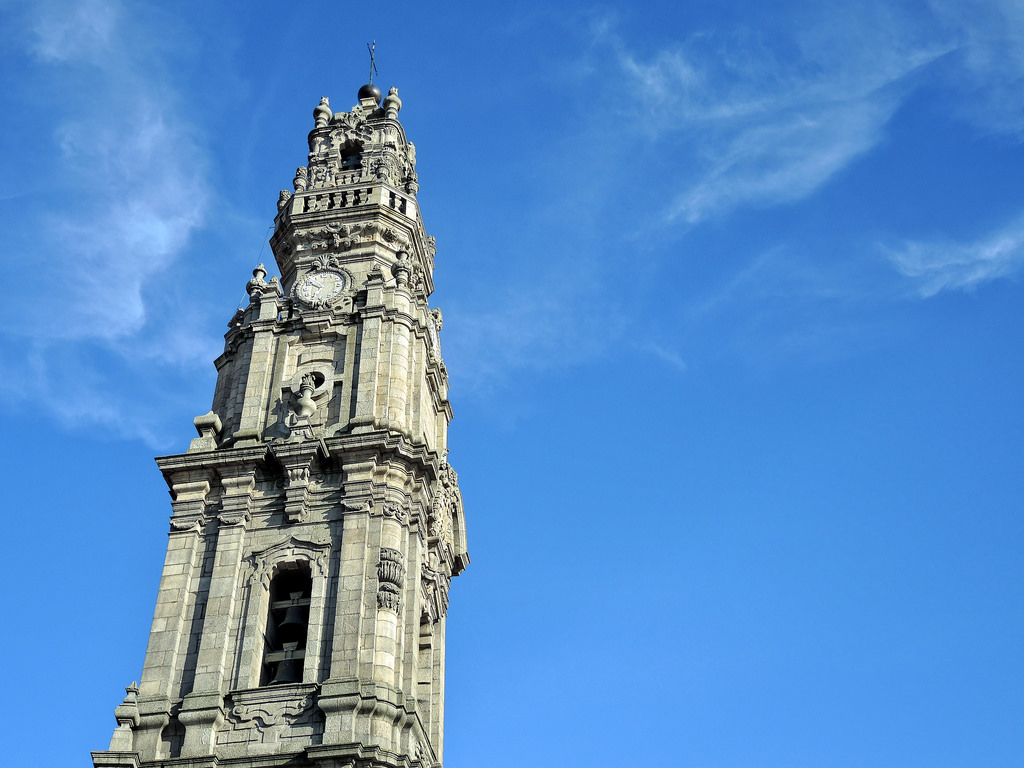clerigos: (84, 34, 475, 767)
